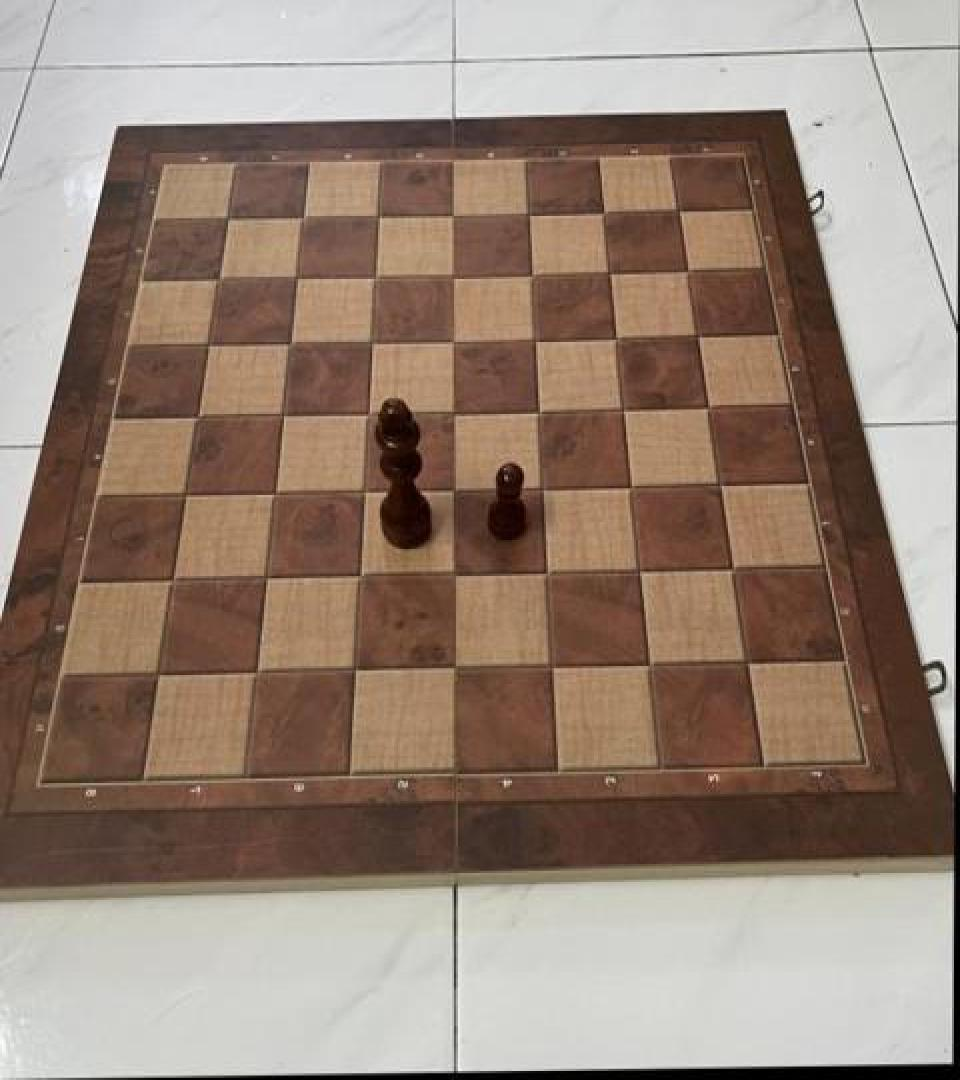xcorner: (437, 255, 471, 294), (680, 317, 714, 356), (155, 562, 189, 601), (211, 198, 245, 236), (287, 197, 321, 235), (362, 196, 396, 234), (437, 195, 471, 233), (512, 194, 546, 232), (587, 192, 621, 230), (662, 192, 696, 230), (202, 259, 236, 297), (281, 258, 315, 296), (359, 256, 393, 294), (515, 255, 549, 293), (593, 253, 627, 291), (671, 252, 705, 290), (192, 325, 226, 363), (274, 324, 308, 362), (356, 323, 390, 361), (437, 321, 471, 359), (518, 320, 552, 358), (599, 318, 633, 356), (181, 397, 215, 435), (266, 396, 300, 434), (352, 395, 386, 433), (437, 393, 471, 431), (522, 392, 556, 430), (606, 390, 640, 428), (691, 388, 725, 426), (169, 476, 203, 514), (258, 475, 292, 513), (348, 472, 382, 510), (437, 472, 471, 510), (525, 469, 559, 507), (614, 467, 648, 505), (702, 466, 736, 504), (249, 560, 283, 598), (343, 559, 377, 597), (436, 557, 470, 595), (529, 555, 563, 593), (622, 552, 656, 590), (714, 550, 748, 588), (141, 658, 175, 696), (239, 656, 273, 694), (338, 654, 372, 692), (436, 652, 470, 690), (534, 649, 568, 687), (631, 647, 665, 685), (728, 645, 762, 683)
